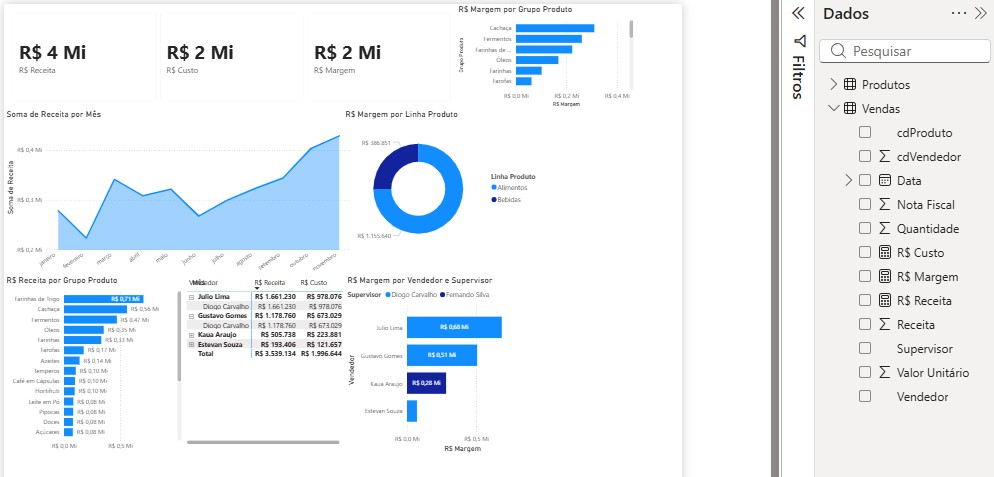

What the dashboard file says about the page in this screenshot:
{"tool":"powerbi","page":{"name":"Página 1","canvas":[1356,1380],"ordinal":0},"visuals":[{"type":"cardVisual","fields":{"Data":["Vendas.R$ Receita","Vendas.R$ Custo","Vendas.R$ Margem"]},"box":[0,0,912,210],"z":0},{"type":"pivotTable","fields":{"Rows":["Vendas.Data.Vendedor","Vendas.Supervisor"],"Values":["Vendas.R$ Receita","Vendas.R$ Custo"]},"box":[360,542,322,344],"z":1000},{"type":"barChart","fields":{"Category":["Produtos.Grupo Produto"],"Y":["Vendas.R$ Receita"]},"box":[0,542,360,360],"z":2000},{"type":"areaChart","fields":{"Category":["Vendas.Data.Variation.Hierarquia de datas.Mês","Vendas.Data.Variation.Hierarquia de datas.Dia"],"Y":["Sum(Vendas.Receita)"]},"box":[0,210,698,360],"z":3000},{"type":"donutChart","fields":{"Category":["Produtos.Linha Produto"],"Y":["Vendas.R$ Margem"]},"box":[678,210,406,300],"z":4000},{"type":"barChart","fields":{"Category":["Produtos.Grupo Produto"],"Y":["Vendas.R$ Margem"]},"box":[904,0,360,210],"z":5000},{"type":"barChart","fields":{"Category":["Vendas.Vendedor"],"Series":["Vendas.Supervisor"],"Y":["Vendas.R$ Margem"]},"box":[682,542,376,360],"z":6000}]}

Visuals, with their boxes in screenshot pixels (x1, y1, x2, y2):
cardVisual - Vendas.R$ Receita x Vendas.R$ Custo: (531, 0, 852, 53)
pivotTable - Vendas.Data.Vendedor x Vendas.Supervisor: (658, 171, 771, 292)
barChart - Produtos.Grupo Produto x Vendas.R$ Receita: (531, 171, 658, 298)
areaChart - Vendas.Data.Variation.Hierarquia de datas.Mês x Vendas.Data.Variation.Hierarquia de datas.Dia: (531, 53, 777, 180)
donutChart - Produtos.Linha Produto x Vendas.R$ Margem: (770, 53, 913, 159)
barChart - Produtos.Grupo Produto x Vendas.R$ Margem: (850, 0, 977, 53)
barChart - Vendas.Vendedor x Vendas.Supervisor: (771, 171, 904, 298)
